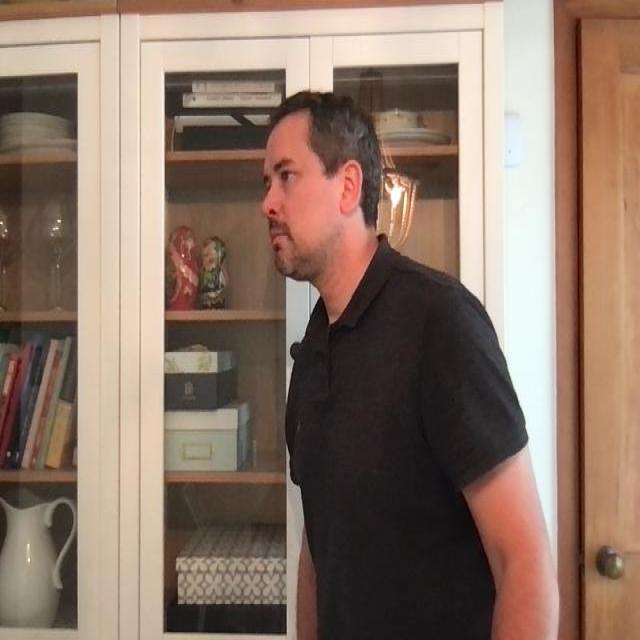face: (260, 92, 385, 291)
